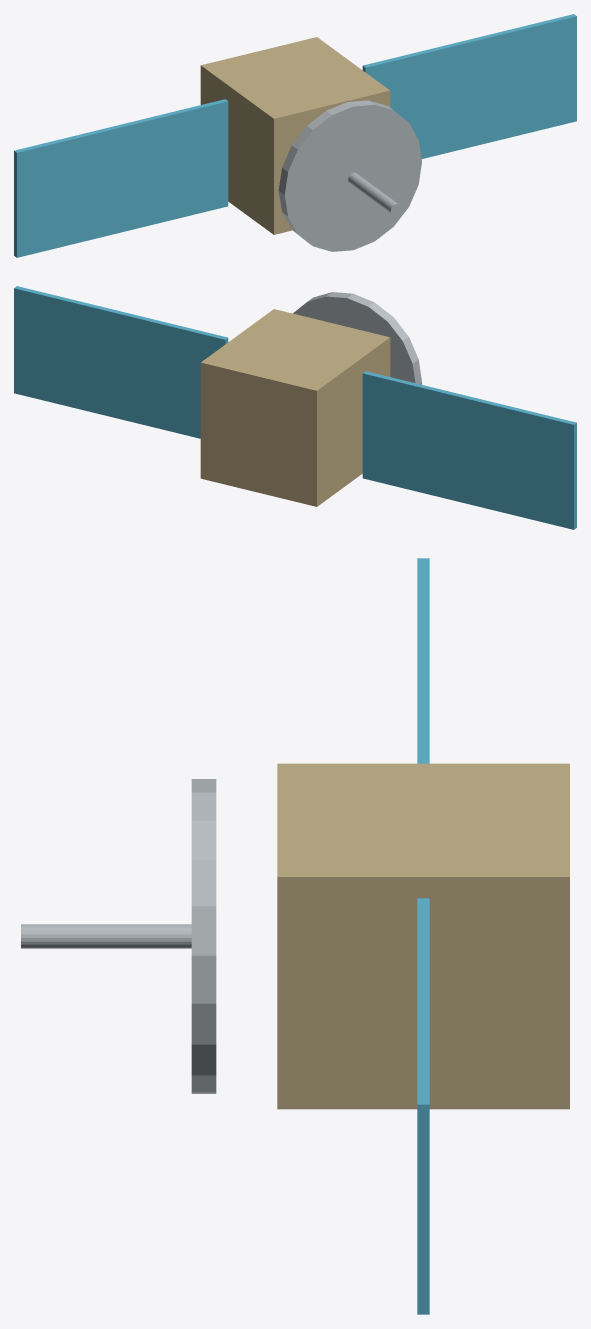
File: dawn.glb
The picture shows the model from 3 angles, top to bottom: view 1: azimuth 30°, elevation 25°; view 2: azimuth 150°, elevation 25°; view 3: azimuth 270°, elevation 25°; orthographic projection. The views are drawn at different scales.
Parts seen in each view (by area): view 1: solar_array_-1, solar_array_1, main_bus, instrument_antenna, communications_mast; view 2: main_bus, solar_array_-1, solar_array_1, instrument_antenna; view 3: main_bus, instrument_antenna, solar_array_1, communications_mast, solar_array_-1.
Boxes of the visible parts, <box> form: solar_array_-1: <box>14,99,228,257</box>; solar_array_1: <box>362,14,576,158</box>; main_bus: <box>200,37,390,234</box>; instrument_antenna: <box>278,100,421,251</box>; communications_mast: <box>348,172,401,215</box>; main_bus: <box>200,309,390,506</box>; solar_array_-1: <box>362,371,576,529</box>; solar_array_1: <box>14,286,228,438</box>; instrument_antenna: <box>293,292,421,384</box>; main_bus: <box>277,763,569,1109</box>; instrument_antenna: <box>191,779,216,1093</box>; solar_array_1: <box>417,898,429,1314</box>; communications_mast: <box>21,924,191,948</box>; solar_array_-1: <box>417,558,429,763</box>.
Bounding box in the file's own units: 5.3 × 1.3 × 2.25.
